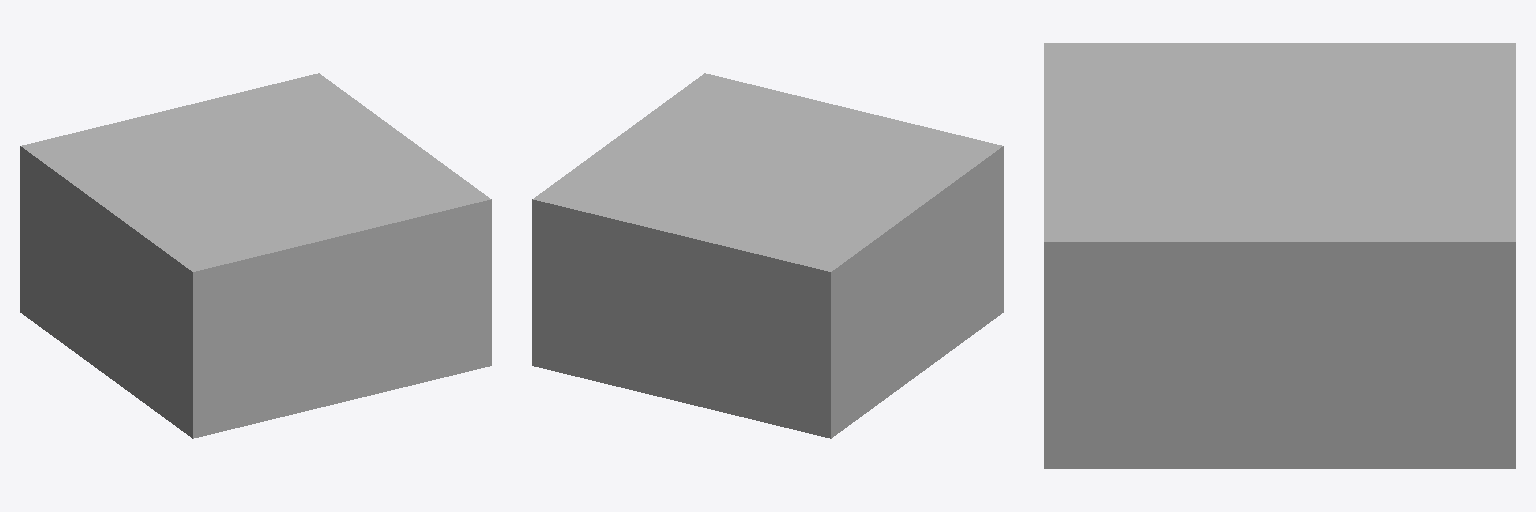
URDF robot description (FlameWheel_F450_full):
<?xml version="1.0" encoding="utf-8"?>
<!-- This URDF was automatically created by SolidWorks to URDF Exporter! Originally created by [author] ([email redacted]) 
     Commit Version: 1.5.1-0-g916b5db  Build Version: 1.5.7152.31018
     For more information, please see http://wiki.ros.org/sw_urdf_exporter -->
<robot
  name="FlameWheel_F450_full">
  <link
    name="base_link">
    <inertial>
      <origin
        xyz="0.0001429 -0.00085582 0.01685"
        rpy="0 0 0" />
      <mass
        value="1.2716" />
      <inertia
        ixx="0.00087678"
        ixy="-6.7834E-08"
        ixz="-5.7185E-07"
        iyy="0.0016004"
        iyz="1.7801E-07"
        izz="0.0022427" />
    </inertial>
    <visual>
      <origin
        xyz="0 0 0"
        rpy="0 0 0" />
      <geometry>
        <mesh
          filename="package://FlameWheel_F450_full/meshes/base_link.STL" />
      </geometry>
      <material
        name="">
        <color
          rgba="0.75294 0.75294 0.75294 1" />
      </material>
    </visual>
    <collision>
      <origin
        xyz="0 0 0"
        rpy="0 0 0" />
      <geometry>
        <mesh
          filename="package://FlameWheel_F450_full/meshes/base_link.STL" />
      </geometry>
    </collision>
  </link>
  <link
    name="propeller_0">
    <inertial>
      <origin
        xyz="3.9364E-07 4.9255E-07 -0.00082037"
        rpy="0 0 0" />
      <mass
        value="0.01" />
      <inertia
        ixx="8.4464E-07"
        ixy="-7.2191E-07"
        ixz="5.3515E-13"
        iyy="6.4014E-07"
        iyz="5.5137E-13"
        izz="1.4805E-06" />
    </inertial>
    <visual>
      <origin
        xyz="0 0 0"
        rpy="0 0 0" />
      <geometry>
        <mesh
          filename="package://FlameWheel_F450_full/meshes/propeller_0.STL" />
      </geometry>
      <material
        name="">
        <color
          rgba="1 1 1 1" />
      </material>
    </visual>
    <collision>
      <origin
        xyz="0 0 0"
        rpy="0 0 0" />
      <geometry>
        <mesh
          filename="package://FlameWheel_F450_full/meshes/propeller_0.STL" />
      </geometry>
    </collision>
  </link>
  <joint
    name="joint_propeller_0"
    type="revolute">
    <origin
      xyz="0.15891 0.15872 0.062676"
      rpy="0 0 0.7854" />
    <parent
      link="base_link" />
    <child
      link="propeller_0" />
    <axis
      xyz="0 0 -1" />
    <limit
      lower="0"
      upper="0"
      effort="0"
      velocity="0" />
  </joint>
  <link
    name="propeller_1">
    <inertial>
      <origin
        xyz="-4.0868E-07 4.4208E-07 -0.00082036"
        rpy="0 0 0" />
      <mass
        value="0.01" />
      <inertia
        ixx="8.5496E-07"
        ixy="7.1953E-07"
        ixz="-4.1012E-13"
        iyy="6.2836E-07"
        iyz="5.491E-13"
        izz="1.479E-06" />
    </inertial>
    <visual>
      <origin
        xyz="0 0 0"
        rpy="0 0 0" />
      <geometry>
        <mesh
          filename="package://FlameWheel_F450_full/meshes/propeller_1.STL" />
      </geometry>
      <material
        name="">
        <color
          rgba="1 1 1 1" />
      </material>
    </visual>
    <collision>
      <origin
        xyz="0 0 0"
        rpy="0 0 0" />
      <geometry>
        <mesh
          filename="package://FlameWheel_F450_full/meshes/propeller_1.STL" />
      </geometry>
    </collision>
  </link>
  <joint
    name="joint_propeller_1"
    type="revolute">
    <origin
      xyz="0.1589 -0.15909 0.062676"
      rpy="0 0 -0.7854" />
    <parent
      link="base_link" />
    <child
      link="propeller_1" />
    <axis
      xyz="0 0 -1" />
    <limit
      lower="0"
      upper="0"
      effort="0"
      velocity="0" />
  </joint>
  <link
    name="propeller_2">
    <inertial>
      <origin
        xyz="3.8516E-07 4.6306E-07 -0.00082037"
        rpy="0 0 0" />
      <mass
        value="0.01" />
      <inertia
        ixx="8.4464E-07"
        ixy="-7.2191E-07"
        ixz="4.5077E-13"
        iyy="6.4014E-07"
        iyz="4.5674E-13"
        izz="1.4805E-06" />
    </inertial>
    <visual>
      <origin
        xyz="0 0 0"
        rpy="0 0 0" />
      <geometry>
        <mesh
          filename="package://FlameWheel_F450_full/meshes/propeller_0.STL" />
      </geometry>
      <material
        name="">
        <color
          rgba="1 1 1 1" />
      </material>
    </visual>
    <collision>
      <origin
        xyz="0 0 0"
        rpy="0 0 0" />
      <geometry>
        <mesh
          filename="package://FlameWheel_F450_full/meshes/propeller_0.STL" />
      </geometry>
    </collision>
  </link>
  <joint
    name="joint_propeller_2"
    type="revolute">
    <origin
      xyz="-0.15891 -0.15908 0.062676"
      rpy="0 0 0.7854" />
    <parent
      link="base_link" />
    <child
      link="propeller_2" />
    <axis
      xyz="0 0 -1" />
    <limit
      lower="0"
      upper="0"
      effort="0"
      velocity="0" />
  </joint>
  <link
    name="propeller_3">
    <inertial>
      <origin
        xyz="-4.1378E-07 4.3157E-07 -0.00082036"
        rpy="0 0 0" />
      <mass
        value="0.01" />
      <inertia
        ixx="8.5496E-07"
        ixy="7.1953E-07"
        ixz="-4.184E-13"
        iyy="6.2836E-07"
        iyz="5.3609E-13"
        izz="1.479E-06" />
    </inertial>
    <visual>
      <origin
        xyz="0 0 0"
        rpy="0 0 0" />
      <geometry>
        <mesh
          filename="package://FlameWheel_F450_full/meshes/propeller_1.STL" />
      </geometry>
      <material
        name="">
        <color
          rgba="1 1 1 1" />
      </material>
    </visual>
    <collision>
      <origin
        xyz="0 0 0"
        rpy="0 0 0" />
      <geometry>
        <mesh
          filename="package://FlameWheel_F450_full/meshes/propeller_1.STL" />
      </geometry>
    </collision>
  </link>
  <joint
    name="joint_propeller_3"
    type="revolute">
    <origin
      xyz="-0.1589 0.15873 0.062676"
      rpy="0 0 -0.7854" />
    <parent
      link="base_link" />
    <child
      link="propeller_3" />
    <axis
      xyz="0 0 -1" />
    <limit
      lower="0"
      upper="0"
      effort="0"
      velocity="0" />
  </joint>
  <link
    name="cam_link">
    <inertial>
      <origin
        xyz="-0.0013668 -1.5197E-05 0.00025326"
        rpy="0 0 0" />
      <mass
        value="0.050075" />
      <inertia
        ixx="3.2061E-05"
        ixy="-1.169E-08"
        ixz="-4.2601E-10"
        iyy="3.0815E-05"
        iyz="5.2182E-10"
        izz="5.1652E-06" />
    </inertial>
    <visual>
      <origin
        xyz="0 0 0"
        rpy="0 0 0" />
      <geometry>
        <mesh
          filename="package://FlameWheel_F450_full/meshes/cam_link.STL" />
      </geometry>
      <material
        name="">
        <color
          rgba="0.79216 0.81961 0.93333 1" />
      </material>
    </visual>
    <collision>
      <origin
        xyz="0 0 0"
        rpy="0 0 0" />
      <geometry>
        <mesh
          filename="package://FlameWheel_F450_full/meshes/cam_link.STL" />
      </geometry>
    </collision>
  </link>
  <joint
    name="joint_cam"
    type="revolute">
    <origin
      xyz="0 0 -0.013633"
      rpy="1.5708 1.5708 0" />
    <parent
      link="base_link" />
    <child
      link="cam_link" />
    <axis
      xyz="-1 0 0" />
    <limit
      lower="0"
      upper="0"
      effort="0"
      velocity="0" />
  </joint>
</robot>

--- Render facts (derived) ---
Views: 3 orthographic renders of the robot side by side, from view 1: azimuth 30°, elevation 25°; view 2: azimuth 150°, elevation 25°; view 3: azimuth 270°, elevation 25°.
Robot: FlameWheel_F450_full — 6 links, 5 joints (5 revolute); root link base_link; default pose: every joint at zero.
Links seen in each view (by area): view 1: base_link; view 2: base_link; view 3: base_link.
Link boxes in pixels (left/top/right/bottom): base_link: left=20, top=73, right=491, bottom=438; base_link: left=532, top=73, right=1003, bottom=438; base_link: left=1044, top=43, right=1515, bottom=468.
Bounding box of the posed robot: 0.003 × 0.003 × 0.0016 m (x, y, z).
1 mesh visuals loaded from 4 distinct referenced files (1 binary STL); not drawn: 5 (reference not matched to a file when rendering).